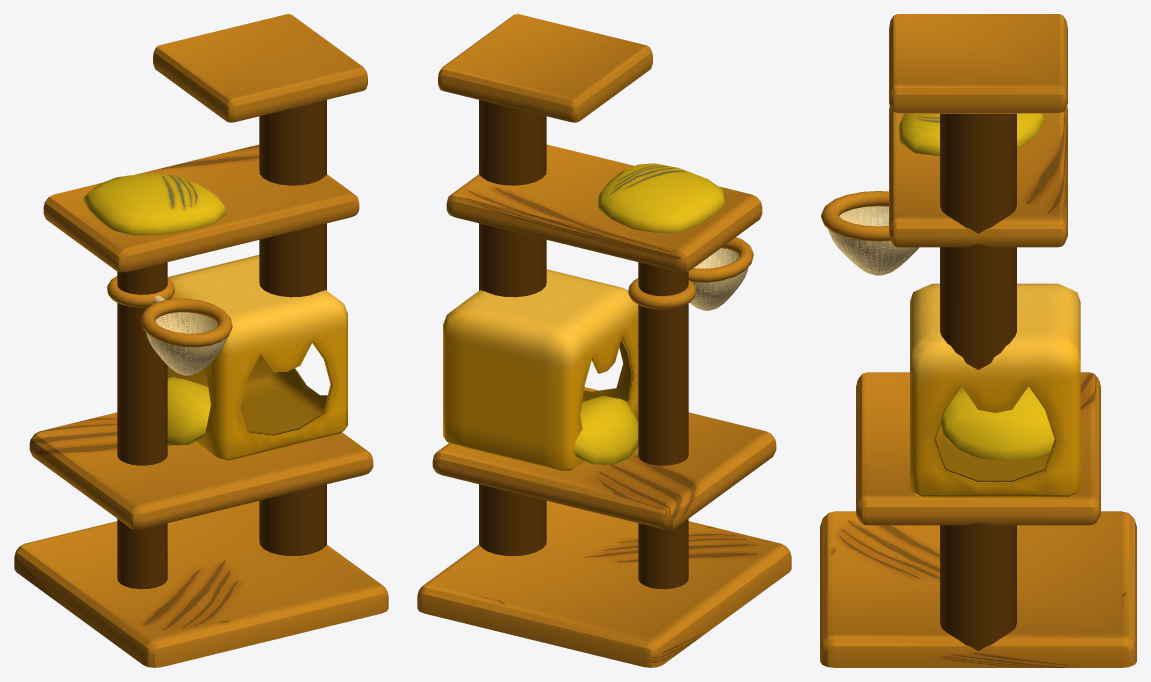
File: CatTower_Left.fbx
The picture shows the model from 3 angles, left to right: view 1: azimuth 30°, elevation 25°; view 2: azimuth 150°, elevation 25°; view 3: azimuth 270°, elevation 25°; orthographic projection. The views are drawn at different scales.
Parts seen in each view (by area): view 1: pole_R.001; view 2: pole_R.001; view 3: pole_R.001.
Part boxes in pixels (x1,y1,x2,y2): pole_R.001: (14,14,388,667); pole_R.001: (417,14,791,667); pole_R.001: (820,14,1136,667).
Size of the model in its own units: 853 by 1680 by 826.
Materials: 6 (3 with a texture image).
